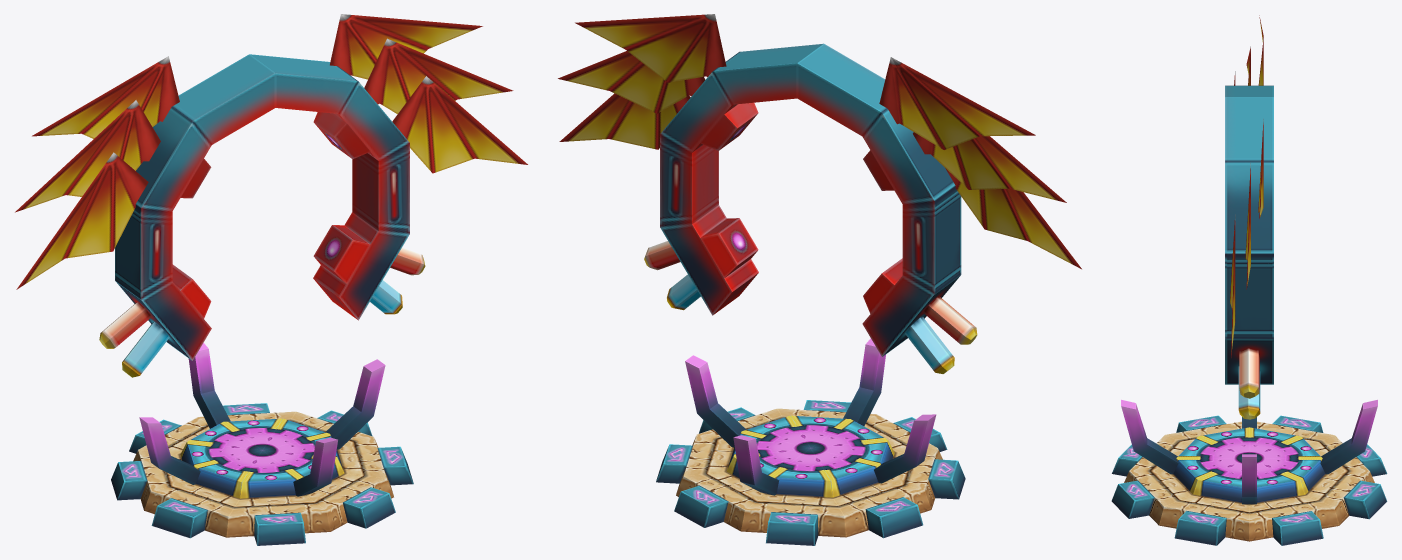
File: kjzm.FBX
The picture shows the model from 3 angles, left to right: view 1: azimuth 30°, elevation 25°; view 2: azimuth 150°, elevation 25°; view 3: azimuth 270°, elevation 25°; orthographic projection. The views are drawn at different scales.
Visible parts, largest first — view 1: s, x; view 2: s, x; view 3: x, s.
Part boxes in pixels (bbox=[...]): s: bbox=[15, 14, 527, 377]; x: bbox=[111, 342, 413, 545]; s: bbox=[558, 14, 1081, 373]; x: bbox=[656, 338, 965, 545]; x: bbox=[1111, 399, 1387, 545]; s: bbox=[1225, 15, 1273, 419].
Size of the model in its own units: 575 by 473 by 287.
